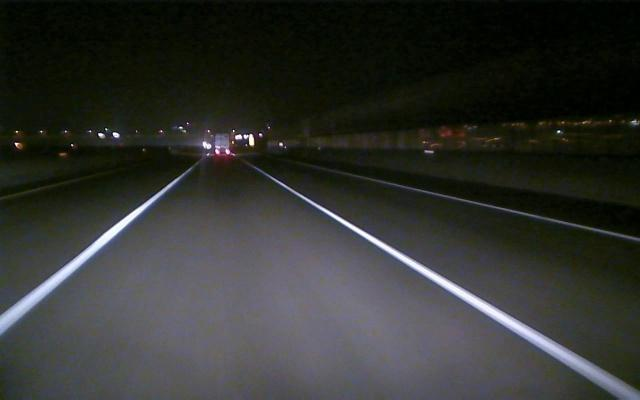lane: (272, 177, 637, 396), (3, 181, 174, 332), (373, 177, 640, 242), (0, 169, 117, 200)
